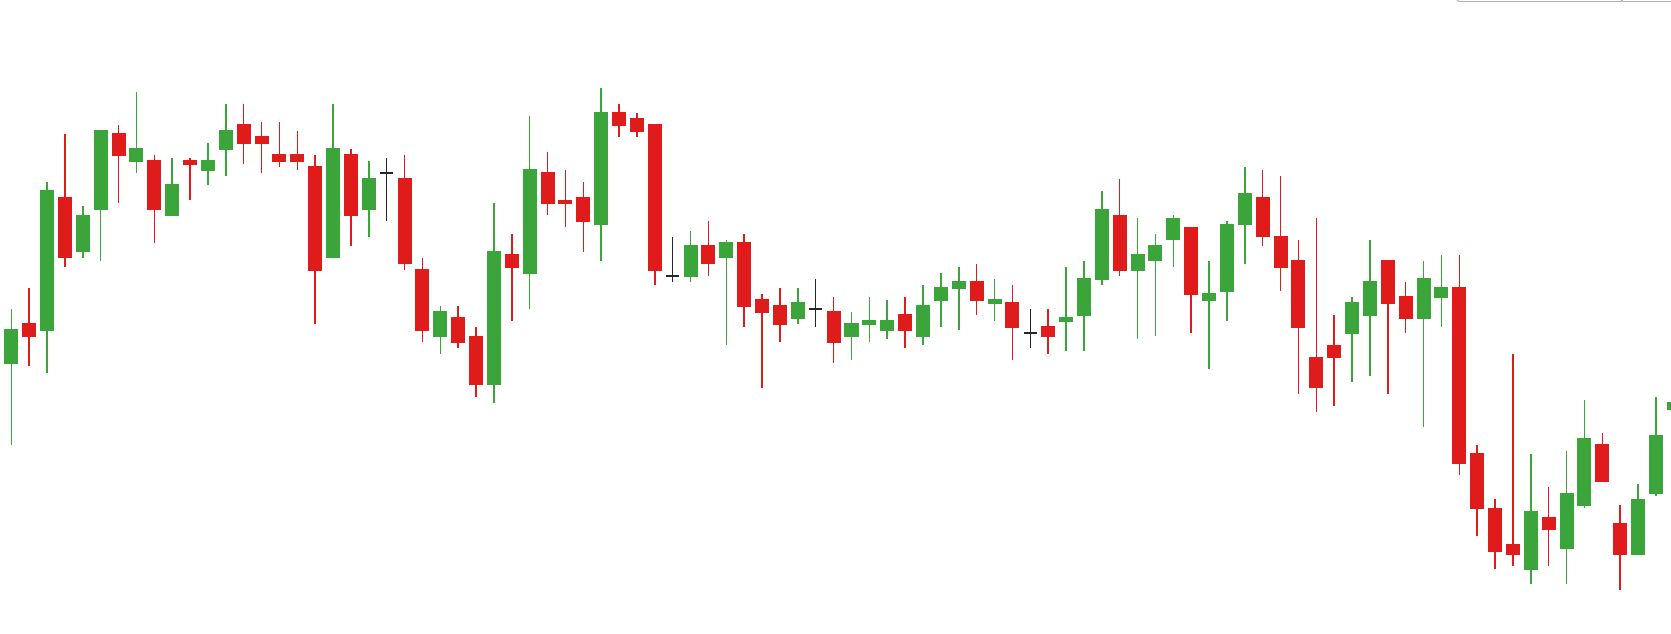sell: (1112, 160, 1273, 311), (518, 72, 647, 225)
